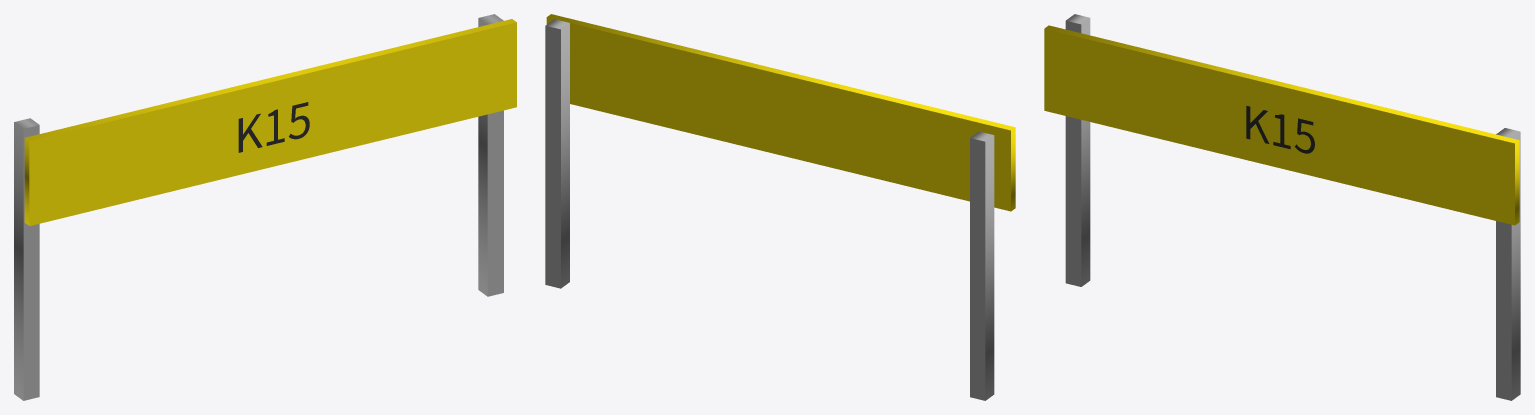
The picture shows the model from 3 angles, left to right: view 1: azimuth 30°, elevation 25°; view 2: azimuth 150°, elevation 25°; view 3: azimuth 330°, elevation 25°; orthographic projection. The views are drawn at different scales.
Visible parts, largest first — view 1: K15_r500, K15_r00, K15_r250, K15_txt625; view 2: K15_r500, K15_r00, K15_r250; view 3: K15_r500, K15_r250, K15_r00, K15_txt625.
Part boxes in pixels (x1,y1,x2,y2): K15_r500: (24,19,516,225); K15_r00: (14,118,39,400); K15_r250: (478,14,503,296); K15_txt625: (238,102,309,152); K15_r500: (546,14,1015,211); K15_r00: (970,131,994,400); K15_r250: (545,19,569,288); K15_r500: (1044,25,1519,225); K15_r250: (1496,128,1520,400); K15_r00: (1065,14,1090,286); K15_txt625: (1246,105,1314,153).
Bounding box in the file's own units: 3 × 1.6 × 0.2504.
